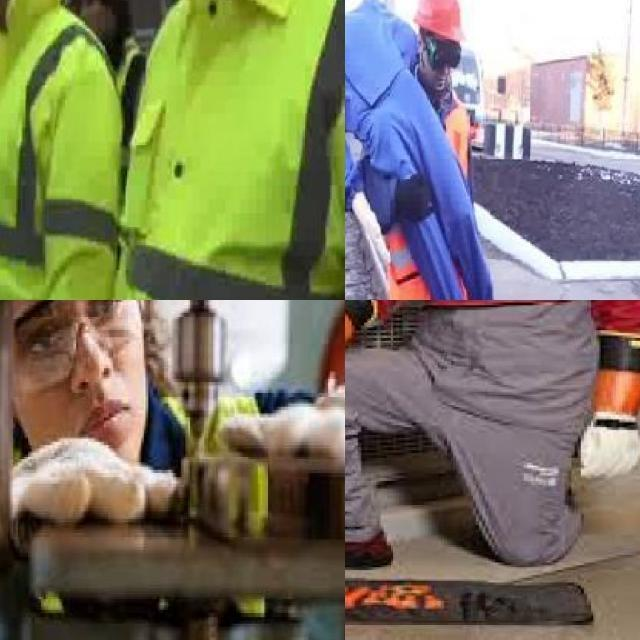apron: (570, 335, 640, 483)
